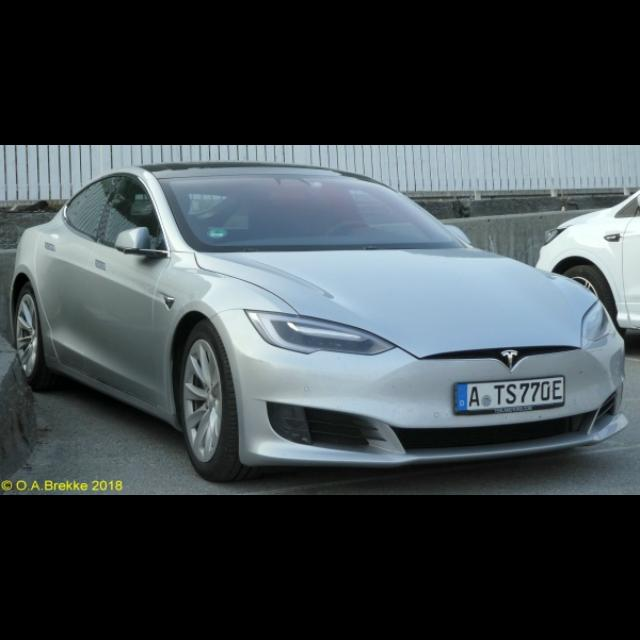d_license_plate: (456, 377, 562, 411)
